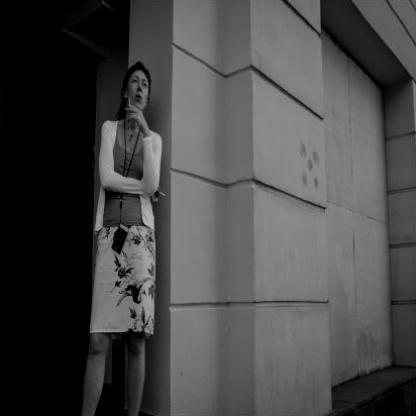person: (72, 60, 172, 416)
